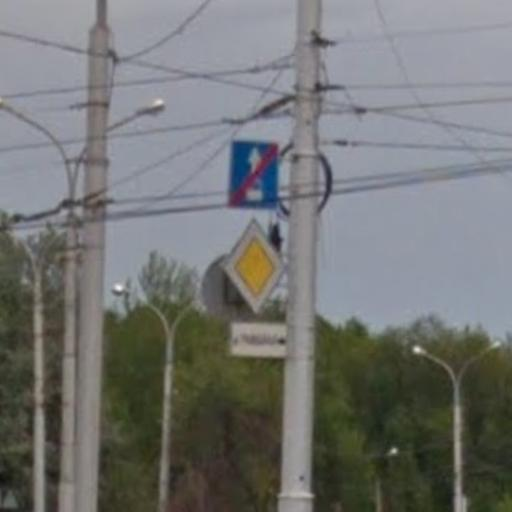traffic_sign: (222, 217, 287, 317)
